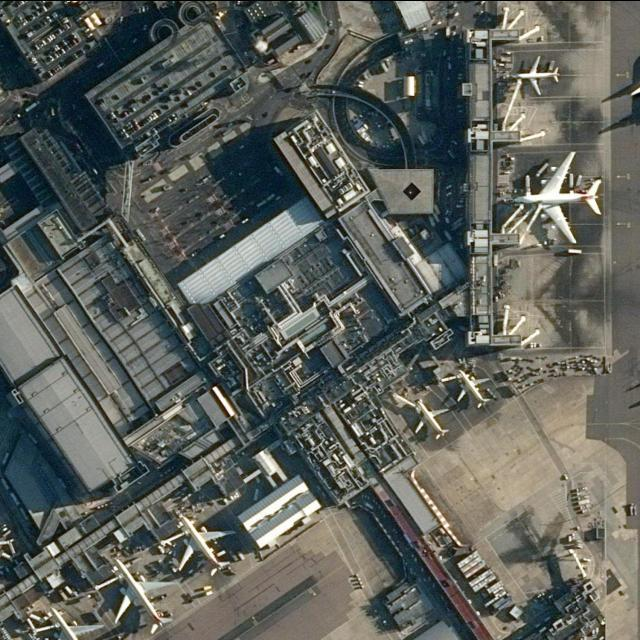Aircraft: (511, 151, 603, 245), (110, 555, 176, 635), (174, 512, 235, 578), (43, 605, 104, 640), (513, 56, 561, 96), (411, 398, 450, 441), (454, 368, 492, 410), (628, 83, 640, 101)
